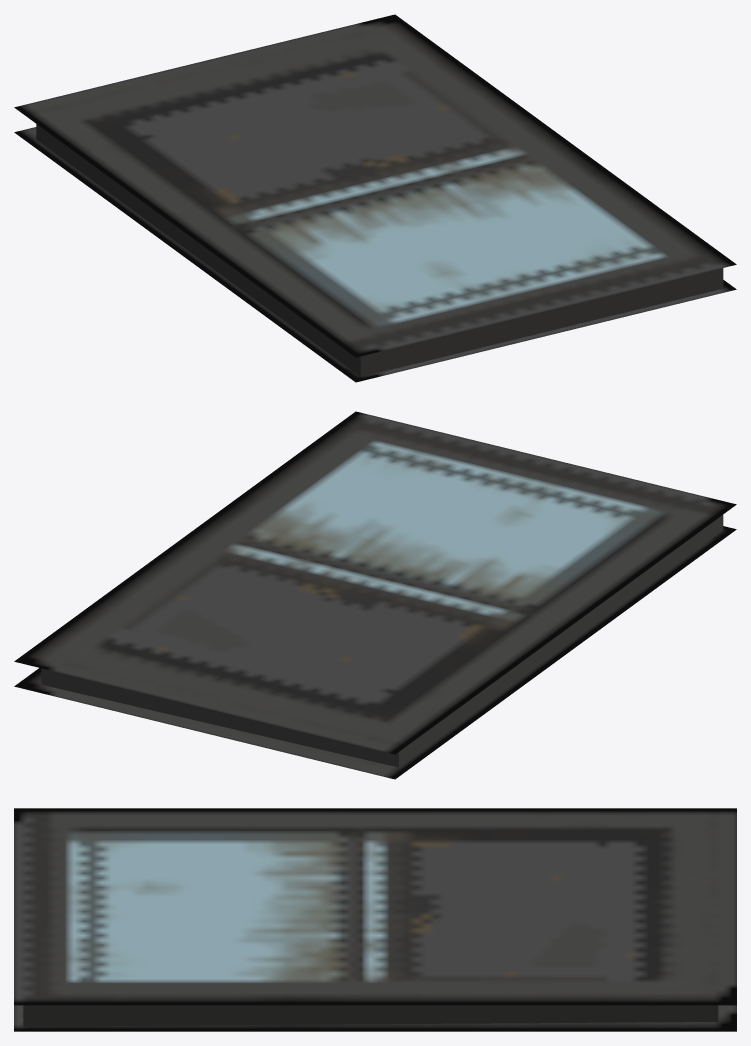
The model's file is pz_native_fixtures_windows_01_35_frame.obj.
The picture shows the model from 3 angles, top to bottom: view 1: azimuth 30°, elevation 25°; view 2: azimuth 150°, elevation 25°; view 3: azimuth 270°, elevation 25°; orthographic projection. The views are drawn at different scales.
Parts seen in each view (by area): view 1: pz_native_fixtures_windows_01_35_frame; view 2: pz_native_fixtures_windows_01_35_frame; view 3: pz_native_fixtures_windows_01_35_frame.
Part boxes in pixels (box(x1,y1,x2,y2)): pz_native_fixtures_windows_01_35_frame: box(14, 14, 736, 382); pz_native_fixtures_windows_01_35_frame: box(14, 411, 736, 779); pz_native_fixtures_windows_01_35_frame: box(14, 808, 736, 1031).
Bounding box in the file's own units: 0.6406 × 0.04 × 0.9951.
Materials: 1 (1 with a texture image).
